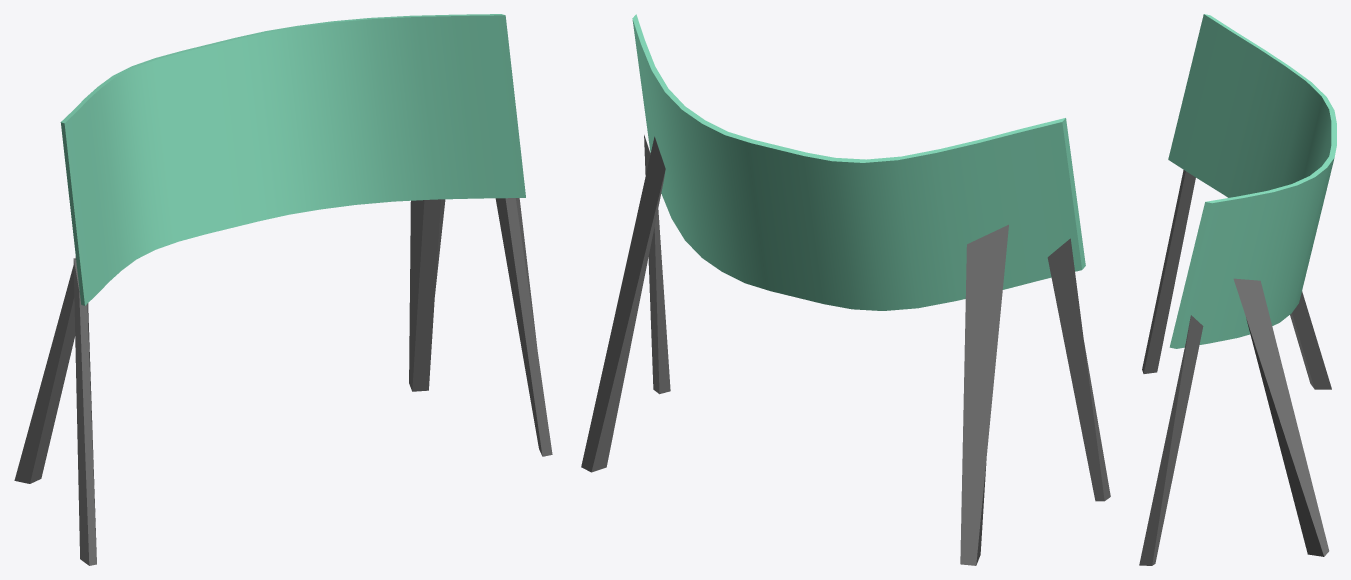
The model's file is Stol 1.fbx.
3 views of the same model, side by side, from view 1: azimuth 30°, elevation 25°; view 2: azimuth 150°, elevation 25°; view 3: azimuth 270°, elevation 25° (orthographic). The views are drawn at different scales.
Parts seen in each view (by area): view 1: Cube, Cube.001, Cube.004, Cube.005, Cube.003; view 2: Cube, Cube.005, Cube.001, Cube.003, Cube.004; view 3: Cube, Cube.001, Cube.004, Cube.003, Cube.005.
Boxes of the visible parts, left/top/right/bottom form: Cube: left=60, top=14, right=525, bottom=305; Cube.001: left=409, top=199, right=445, bottom=391; Cube.004: left=495, top=198, right=552, bottom=456; Cube.005: left=14, top=257, right=75, bottom=483; Cube.003: left=73, top=258, right=96, bottom=565; Cube: left=632, top=14, right=1085, bottom=310; Cube.005: left=960, top=224, right=1008, bottom=565; Cube.001: left=581, top=136, right=665, bottom=472; Cube.003: left=1047, top=238, right=1110, bottom=501; Cube.004: left=644, top=135, right=670, bottom=394; Cube: left=1168, top=14, right=1336, bottom=348; Cube.001: left=1233, top=278, right=1329, bottom=556; Cube.004: left=1139, top=315, right=1203, bottom=565; Cube.003: left=1142, top=170, right=1195, bottom=373; Cube.005: left=1290, top=291, right=1331, bottom=389.
Bounding box in the file's own units: 791 × 673 × 333.
